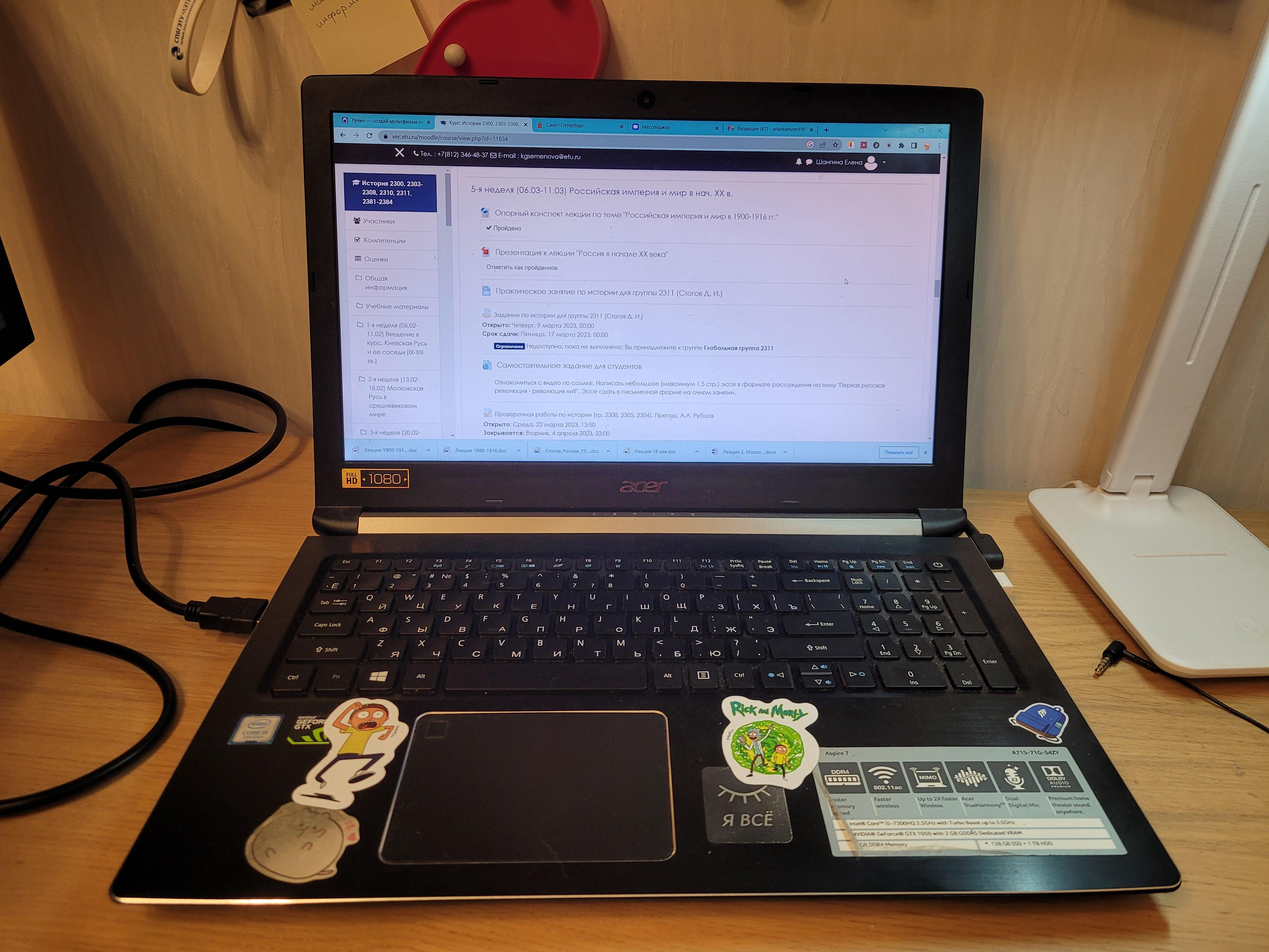monitor: (296, 68, 998, 521)
